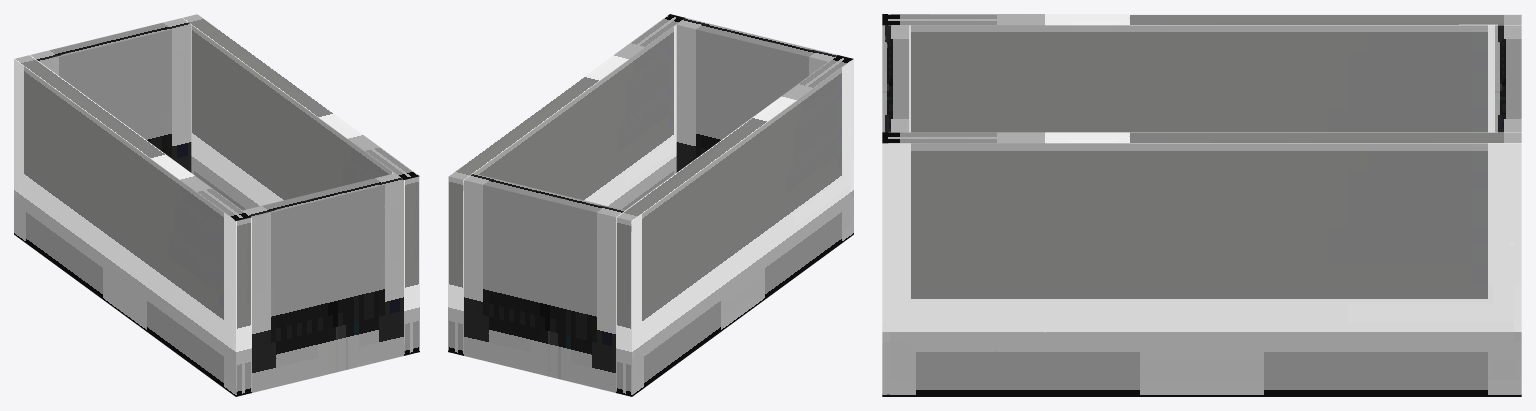
Rendered from Building_Sarcophagus.glb.
The picture shows the model from 3 angles, left to right: view 1: azimuth 30°, elevation 25°; view 2: azimuth 150°, elevation 25°; view 3: azimuth 270°, elevation 25°; orthographic projection. The views are drawn at different scales.
Visible parts, largest first — view 1: Sarcophagus; view 2: Sarcophagus; view 3: Sarcophagus.
Boxes of the visible parts, x1,y1,x2,y2 form: Sarcophagus: (14,14,419,396); Sarcophagus: (448,14,853,396); Sarcophagus: (882,14,1521,396).
Bounding box in the file's own units: 0.92 × 0.84 × 1.92.
Materials: 1 (1 with a texture image).
